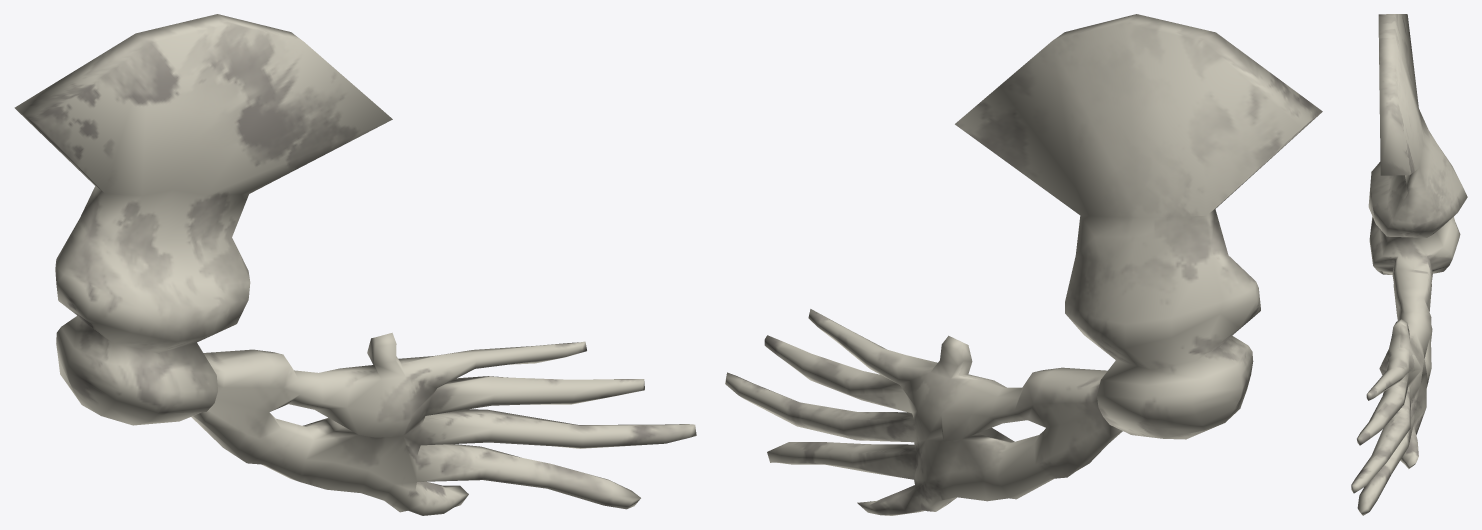
File: bowheadWhaleSkele00b.fbx
The picture shows the model from 3 angles, left to right: view 1: azimuth 30°, elevation 25°; view 2: azimuth 150°, elevation 25°; view 3: azimuth 270°, elevation 25°; orthographic projection. The views are drawn at different scales.
Visible parts, largest first — view 1: bowheadWhaleSkel_b; view 2: bowheadWhaleSkel_b; view 3: bowheadWhaleSkel_b.
Boxes of the visible parts, bbox=[...] form: bowheadWhaleSkel_b: bbox=[14, 14, 696, 515]; bowheadWhaleSkel_b: bbox=[725, 14, 1322, 515]; bowheadWhaleSkel_b: bbox=[1351, 14, 1467, 515].
Size of the model in its own units: 6.39 by 5.44 by 1.61.
1 material, 1 textured.
